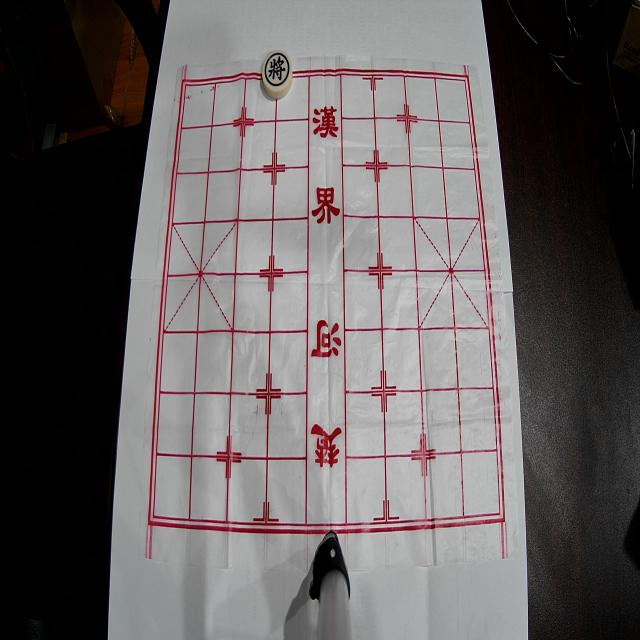black-general: (262, 50, 292, 99)
